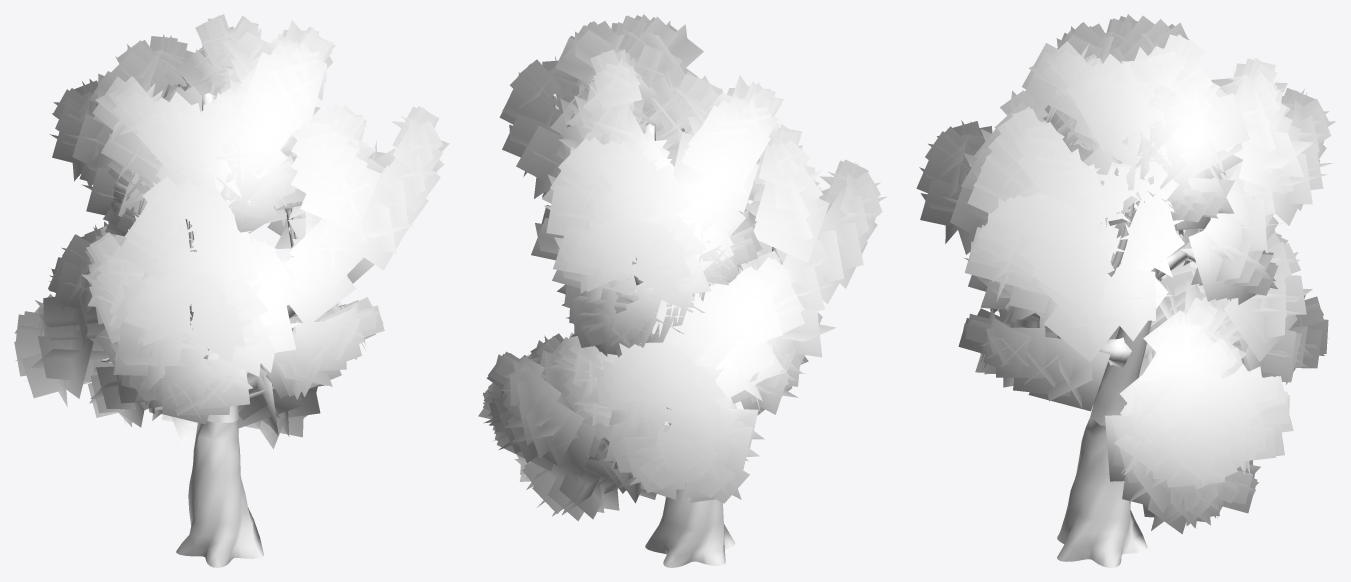
File: arbre_3.glb
The picture shows the model from 3 angles, left to right: view 1: azimuth 30°, elevation 25°; view 2: azimuth 150°, elevation 25°; view 3: azimuth 270°, elevation 25°; orthographic projection. The views are drawn at different scales.
Visible parts, largest first — view 1: TwistedTree_3, TwistedTree_3-col; view 2: TwistedTree_3, TwistedTree_3-col; view 3: TwistedTree_3, TwistedTree_3-col.
Boxes of the visible parts, x1,y1,x2,y2 form: TwistedTree_3: [14, 14, 449, 449]; TwistedTree_3-col: [176, 420, 263, 567]; TwistedTree_3: [478, 14, 887, 521]; TwistedTree_3-col: [645, 484, 735, 567]; TwistedTree_3: [916, 14, 1335, 534]; TwistedTree_3-col: [1057, 417, 1147, 567].
Size of the model in its own units: 11.36 by 16.07 by 11.51.
Materials: 2 (1 with a texture image).
